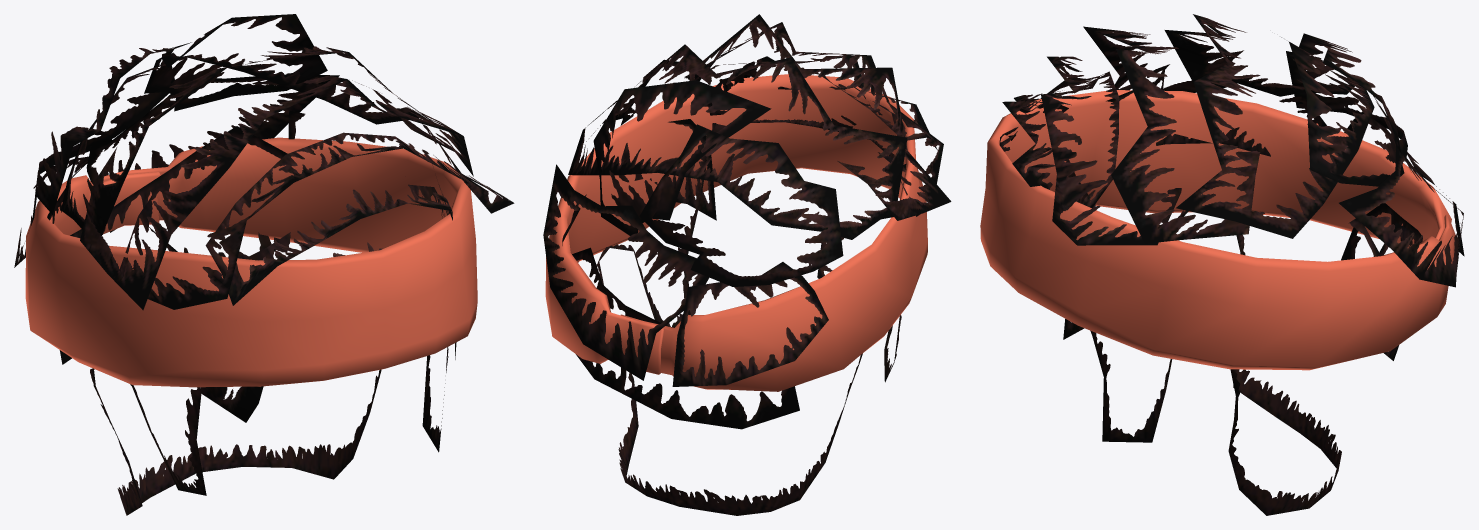
3 views of the same model, side by side, from view 1: azimuth 30°, elevation 25°; view 2: azimuth 150°, elevation 25°; view 3: azimuth 270°, elevation 25° (orthographic). The views are drawn at different scales.
Parts seen in each view (by area): view 1: H_Q3_M_Hr_0009; view 2: H_Q3_M_Hr_0009; view 3: H_Q3_M_Hr_0009.
Part boxes in pixels (bbox=[...]): H_Q3_M_Hr_0009: bbox=[14, 14, 514, 515]; H_Q3_M_Hr_0009: bbox=[543, 14, 951, 515]; H_Q3_M_Hr_0009: bbox=[980, 14, 1464, 515].
Bounding box in the file's own units: 26.87 × 33.02 × 33.
Materials: 2 (2 with a texture image).
